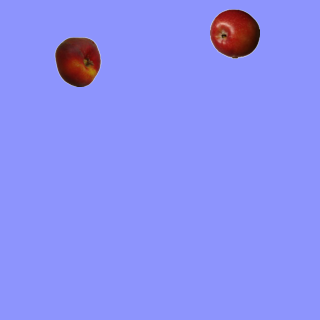Apple Braeburn: (209, 8, 259, 58)
Nectarine Flat: (52, 36, 102, 86)
